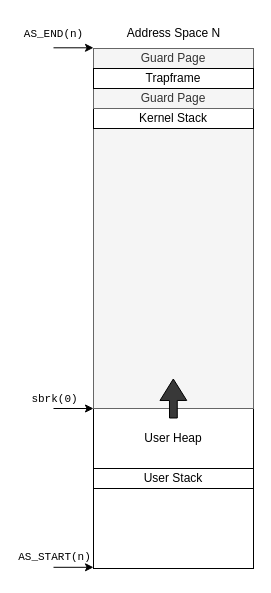
Image size: 271x593. Some labels were removed from this diagram. The box of each missing label's shape, as (x1, y1, x2, y2) in pixels:
Free memory: (92, 128, 254, 408)
Process data + text: (92, 488, 254, 568)
